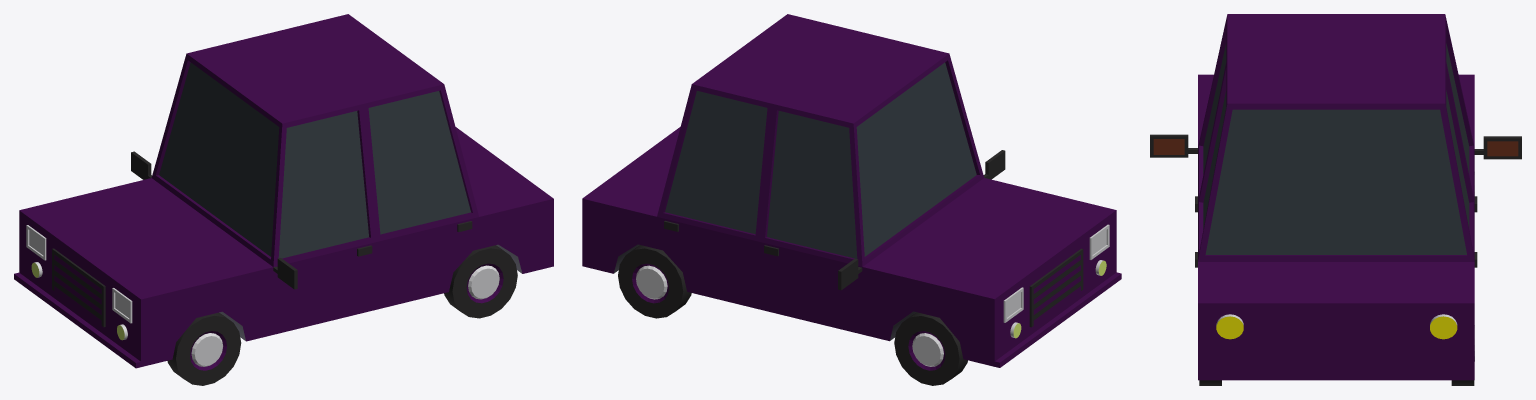
File: car8.FBX
3 views of the same model, side by side, from view 1: azimuth 30°, elevation 25°; view 2: azimuth 150°, elevation 25°; view 3: azimuth 270°, elevation 25° (orthographic). The views are drawn at different scales.
Visible parts, largest first — view 1: car8; view 2: car8; view 3: car8.
Part boxes in pixels (<box>): car8: <box>14,14,553,385</box>; car8: <box>582,14,1121,385</box>; car8: <box>1150,14,1521,385</box>.
Bounding box in the file's own units: 9.78 × 5.11 × 6.58.
